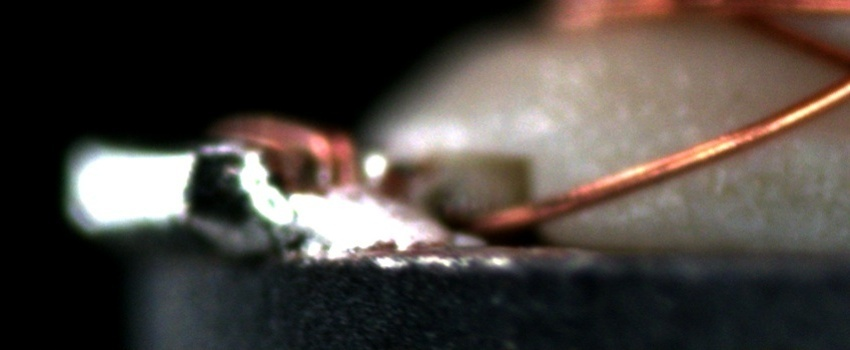CL: (827, 42, 850, 98)
TE: (205, 112, 362, 204)
